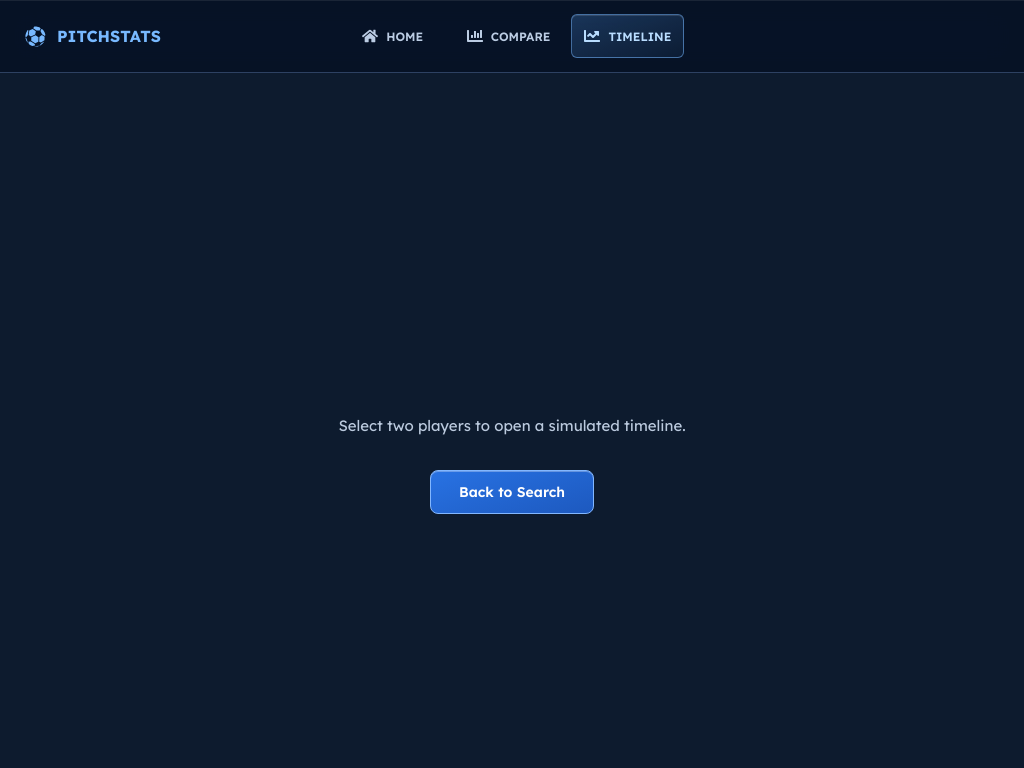
Test case: empty direct routes still provide a working way back to player selection
Expected: the text "Select two players to open a simulated timeline." is shown, [338,416,686,434]
Click the button "Back to Search" at x=512, y=492, box [430,470,594,514]
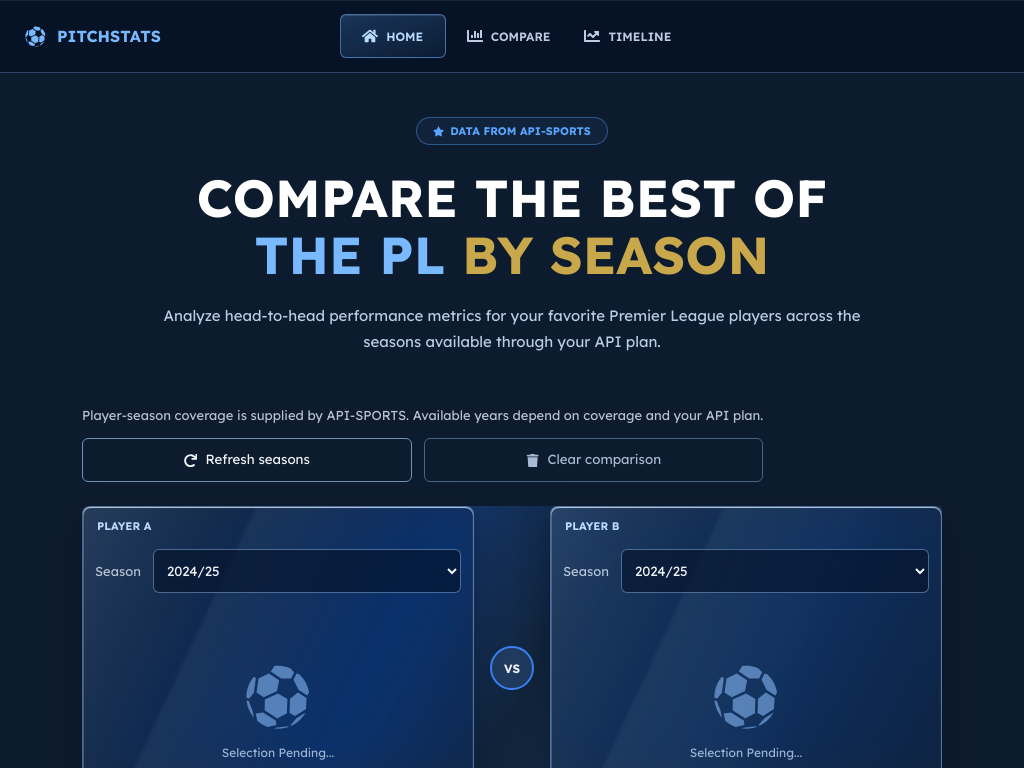
Expected: the button "Refresh seasons" is enabled, [82,438,412,482]
